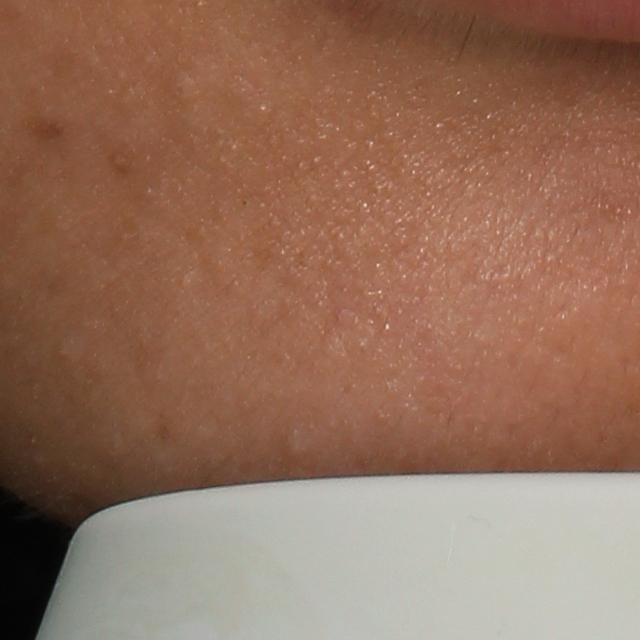comedo: (165, 74, 198, 105), (281, 434, 309, 460)
